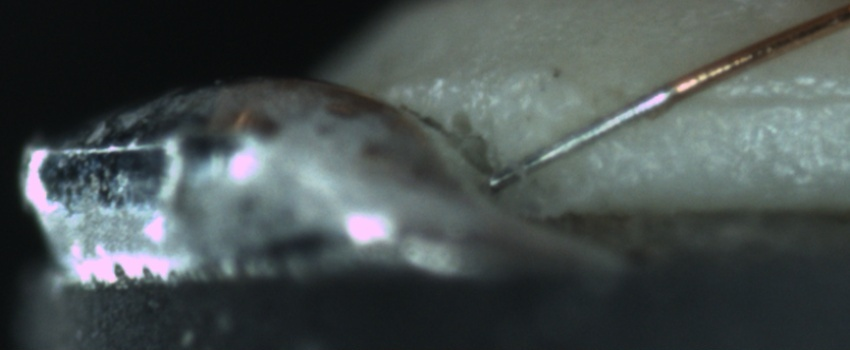DL: (646, 71, 850, 135)
TS: (488, 86, 679, 192)
